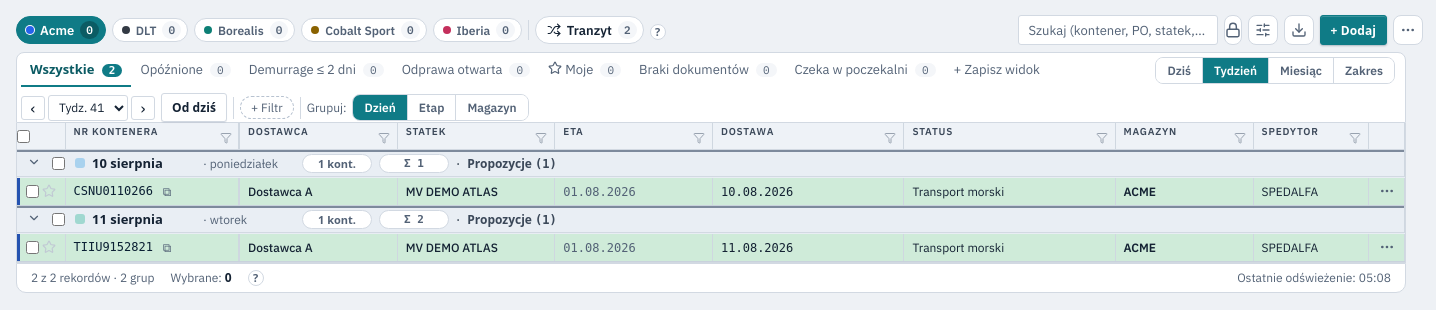
it: pasek akcji masowych › pojawia się zamiast paska filtrów po zaznaczeniu, z odmianą licznika; ✕ Odznacz przywraca filtry
Expected: the text "CSNU0110266" is shown, [74, 184, 153, 198]
Expected: the element with class "kq-filters" is shown, [16, 52, 1406, 123]
Click the checkbox named "Zaznacz kontener" next to "CSNU0110266": (32, 192) [26, 185, 39, 198]
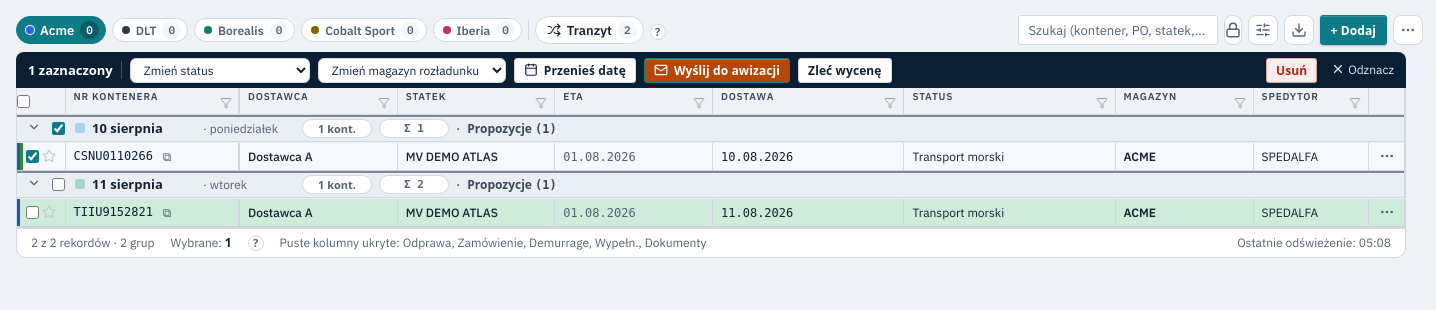
Expected: the element with class "kq-bulk" shows "1 zaznaczony", [28, 61, 113, 79]
Expected: the element with class "kq-filters" is gone
Click the checkbox named "Zaznacz wszystkie": (24, 101) [17, 95, 30, 108]
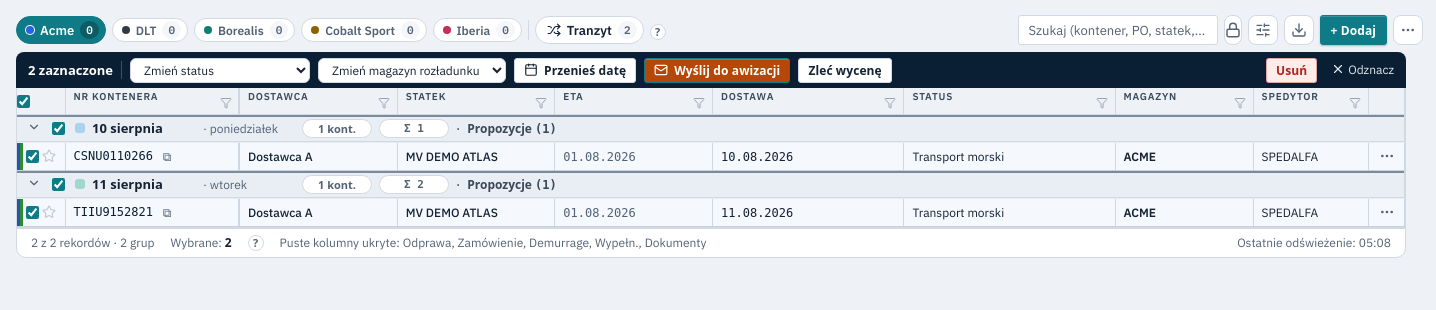
Expected: the element with class "kq-bulk" shows "2 zaznaczone", [28, 61, 113, 79]
Click the button "Odznacz": (1363, 70) [1325, 61, 1400, 79]
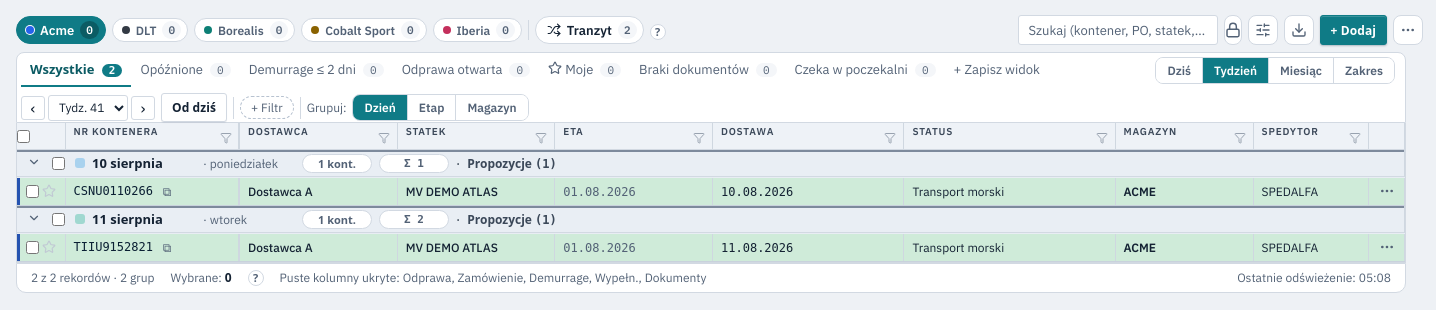
Expected: the element with class "kq-bulk" is gone
Expected: the element with class "kq-filters" is shown, [16, 52, 1406, 123]
